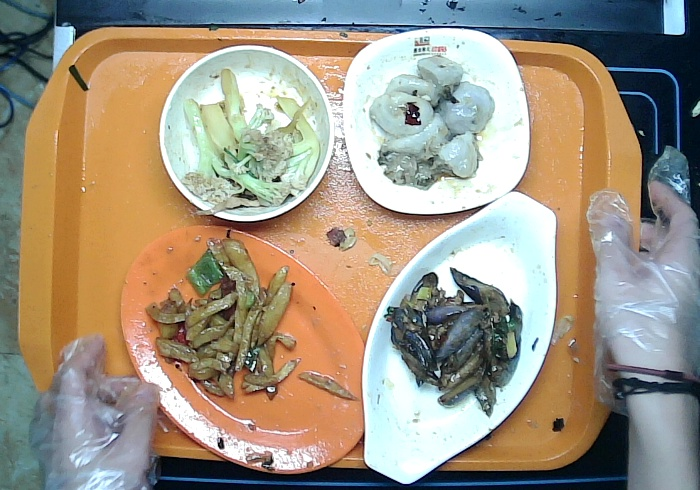NLDX-Bai_Se_Xiao_Fang_Die: (339, 24, 534, 217)
NLDX-Fan_Wan: (157, 43, 338, 224)
NLDX-Ju_Se_Pan: (116, 220, 372, 476)
NLDX-Yu_Pan: (357, 189, 560, 488)
